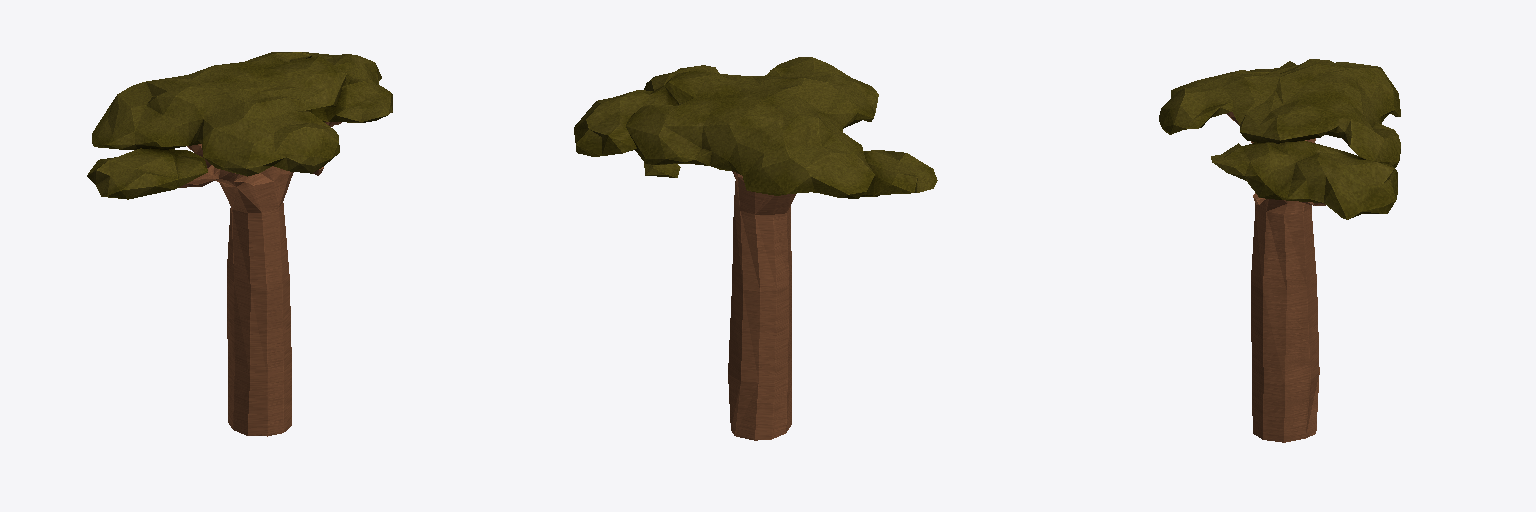
3 renders of one model, left to right at view 1: azimuth 30°, elevation 25°; view 2: azimuth 150°, elevation 25°; view 3: azimuth 270°, elevation 25°, orthographic.
Visible parts, largest first — view 1: Baobab_Mesh; view 2: Baobab_Mesh; view 3: Baobab_Mesh.
Boxes of the visible parts, x1=… form: Baobab_Mesh: x1=87, y1=52, x2=392, y2=436; Baobab_Mesh: x1=574, y1=57, x2=937, y2=440; Baobab_Mesh: x1=1159, y1=59, x2=1400, y2=442.
Size of the model in its own units: 28.32 by 28.81 by 18.57.
Materials: 1 (1 with a texture image).